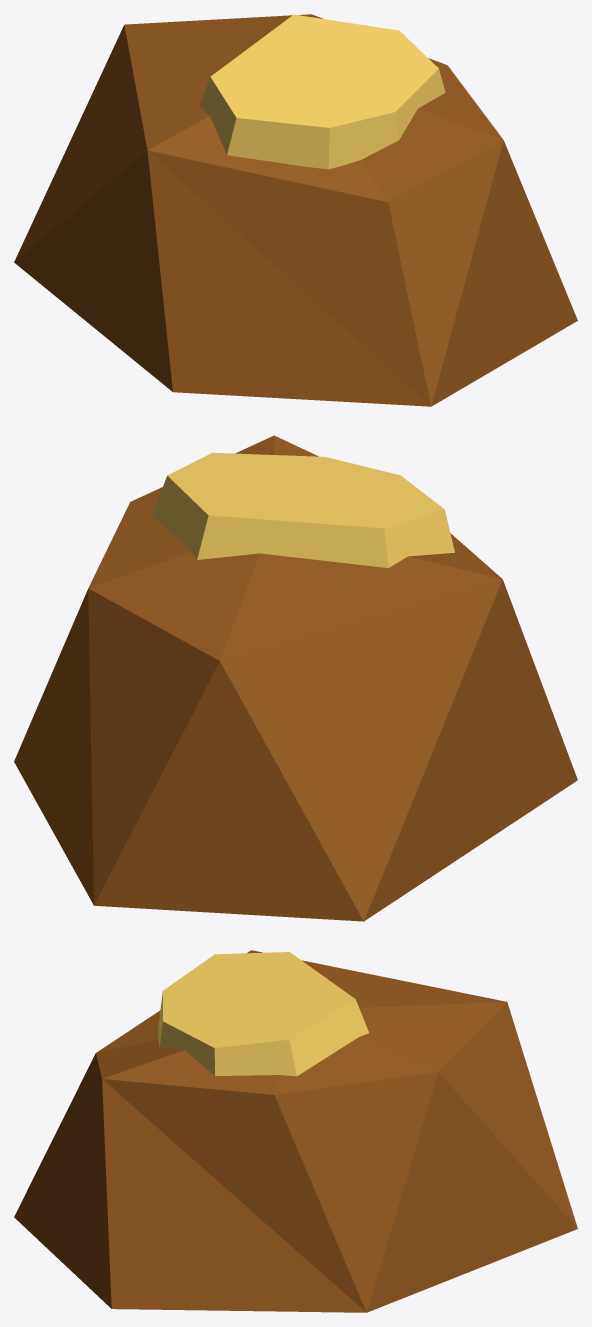
File: Rock_Small_Dirt_Sand_02.fbx
The picture shows the model from 3 angles, top to bottom: view 1: azimuth 30°, elevation 25°; view 2: azimuth 150°, elevation 25°; view 3: azimuth 270°, elevation 25°; orthographic projection. The views are drawn at different scales.
Parts seen in each view (by area): view 1: Rock_Small_Dirt_Sand_02; view 2: Rock_Small_Dirt_Sand_02; view 3: Rock_Small_Dirt_Sand_02.
Boxes of the visible parts, x1,y1,x2,y2 form: Rock_Small_Dirt_Sand_02: [14, 14, 577, 406]; Rock_Small_Dirt_Sand_02: [14, 435, 577, 921]; Rock_Small_Dirt_Sand_02: [14, 950, 577, 1312].
Bounding box in the file's own units: 413 × 316 × 552.
